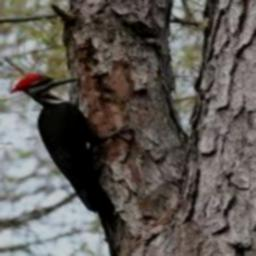Woodpecker: (10, 73, 134, 256)
